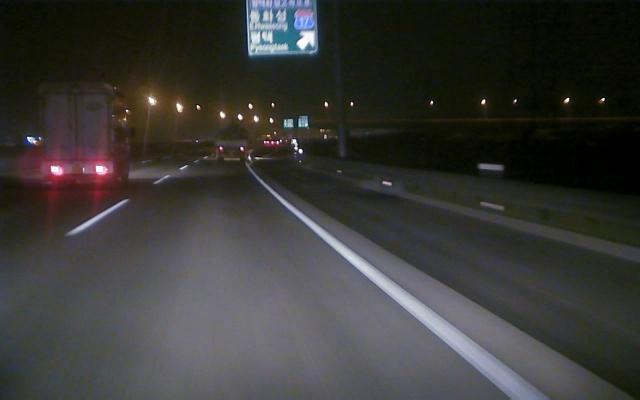lane: (260, 182, 550, 399), (65, 188, 143, 236)
